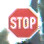stopsign: (8, 8, 39, 39)
